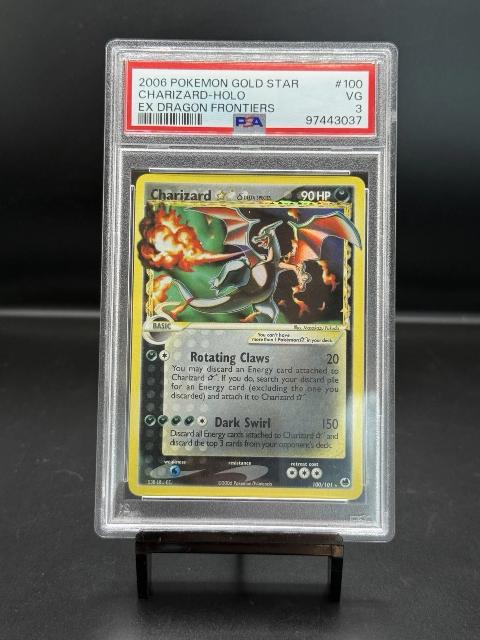Card: (124, 172, 367, 502)
Name: (149, 184, 238, 206)
